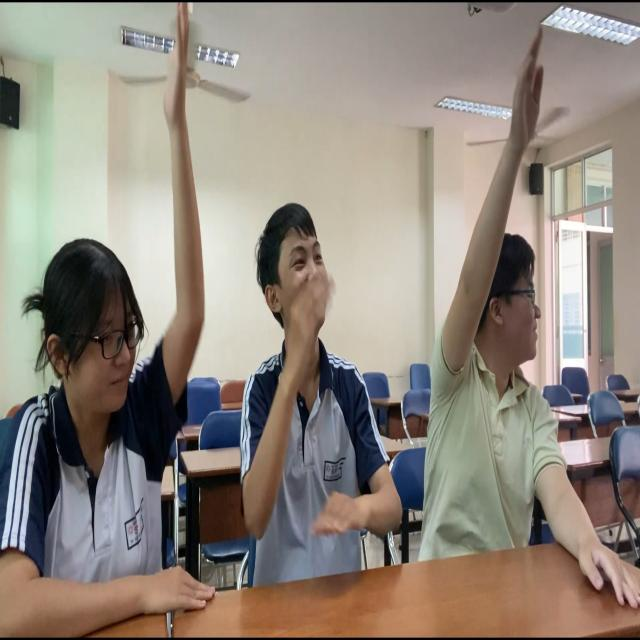raise_hand: (4, 3, 216, 640), (437, 26, 573, 588)
